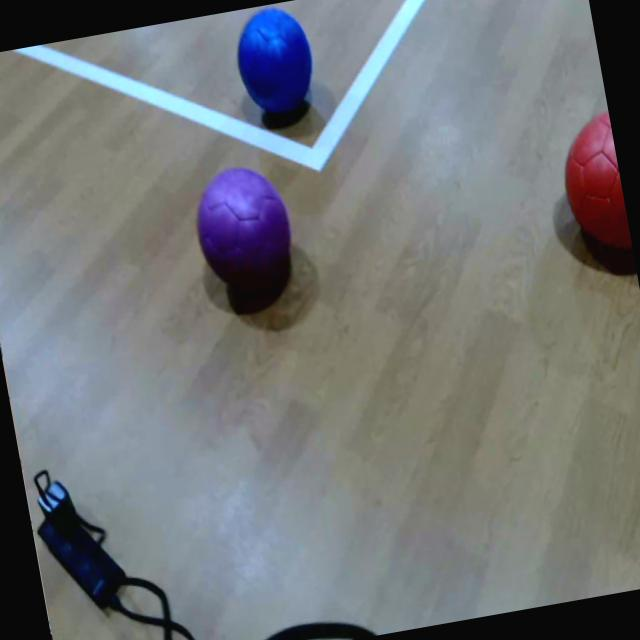blue_ball: (227, 0, 319, 114)
purple_ball: (189, 160, 300, 294)
red_ball: (554, 108, 634, 270)
